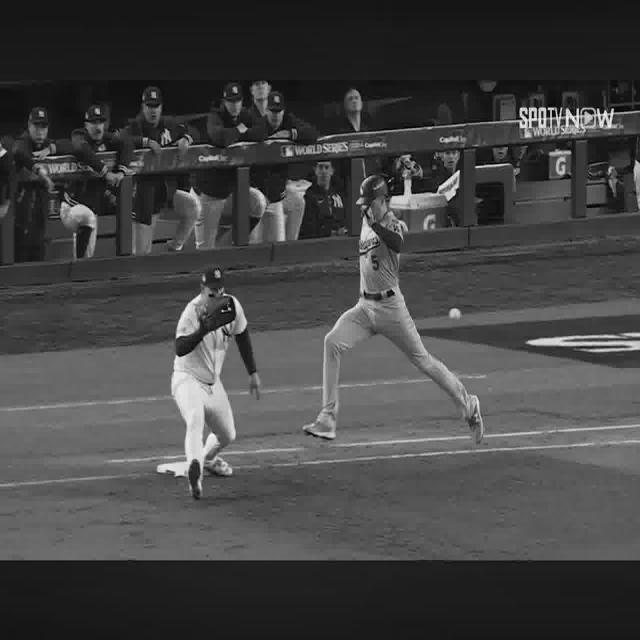base: (156, 462, 188, 477)
baseball: (450, 306, 460, 320)
baseball_glove: (204, 297, 236, 332)
shoe: (302, 413, 336, 440), (465, 395, 484, 443), (188, 458, 202, 500), (206, 457, 231, 476)
